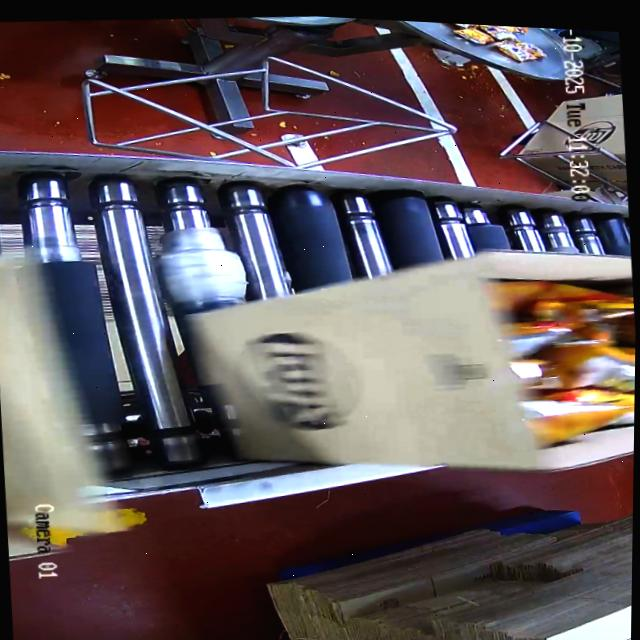FRENCH_CHEESE: (491, 261, 637, 456)
